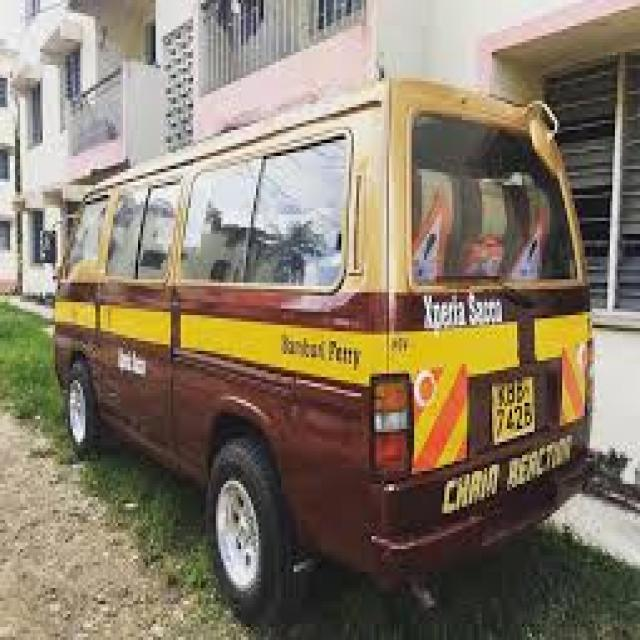matatu: (28, 56, 608, 634)
